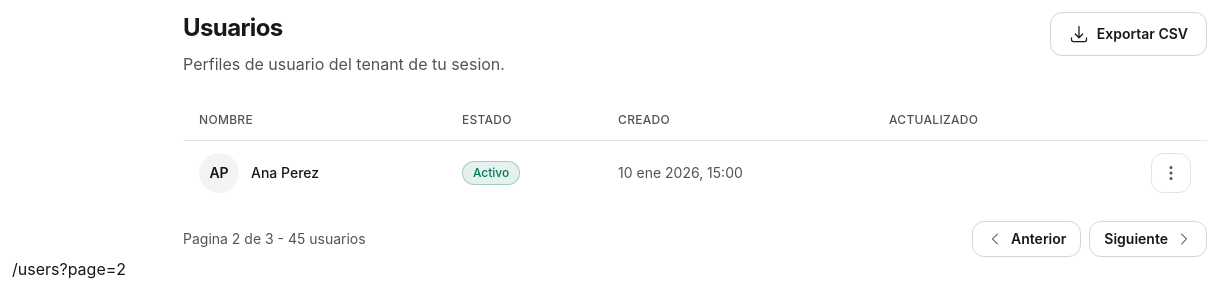
it: UsersPage › la pagina vive en la URL: se lee de ?page y "siguiente" la escribe
Check: the table is shown, box [183,100,1207,205]
Check: the text "Pagina 2 de 3 - 45 usuarios" is shown, box [183,229,366,249]
Click the button "Siguiente" at (1148, 239), box [1089,221,1207,257]
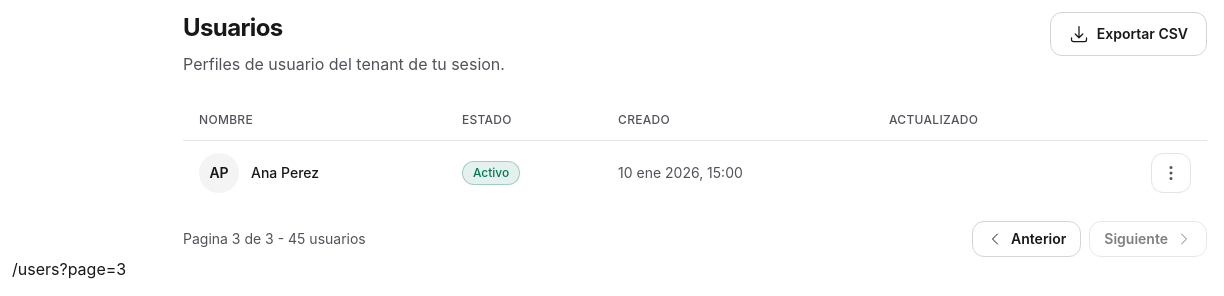
Check: the text with test id "location" reads "/users?page=3", box [12,259,126,279]
